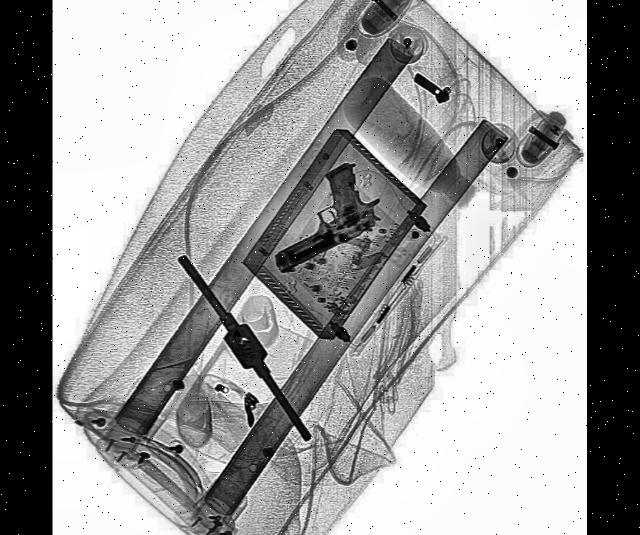Gun: (258, 150, 386, 278)
